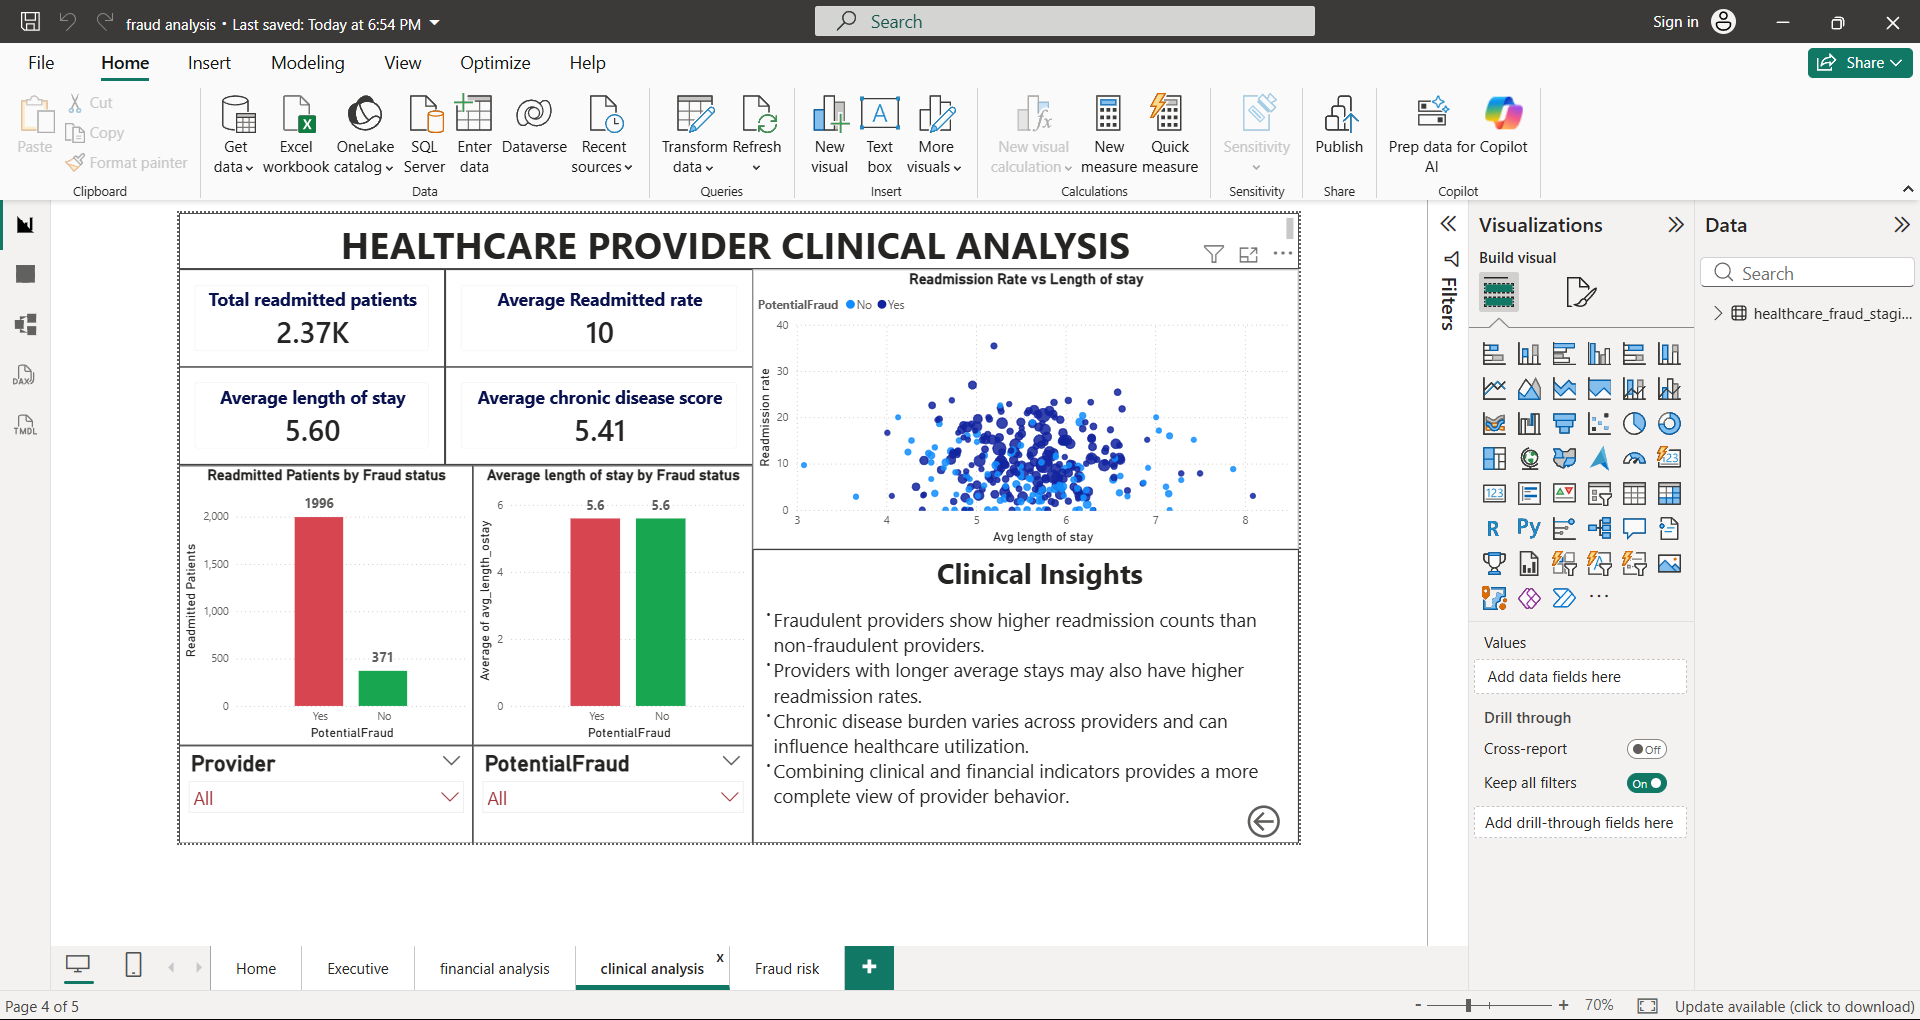

Layout of this report page (visuals, bound fields, positions):
{"tool":"powerbi","page":{"name":"clinical analysis","canvas":[1280,720],"ordinal":3},"visuals":[{"type":"textbox","box":[0,0,1280,64],"z":0},{"type":"cardVisual","fields":{"Data":["healthcare_fraud_staging provider_summary.Total readmitted patients"]},"box":[0,64,304,112],"z":1000},{"type":"cardVisual","fields":{"Data":["healthcare_fraud_staging provider_summary.Avg length of stay"]},"box":[0,176,304,112],"z":2000},{"type":"cardVisual","fields":{"Data":["healthcare_fraud_staging provider_summary.Avg Readmitted rate"]},"box":[304,64,352,112],"z":3000},{"type":"cardVisual","fields":{"Data":["healthcare_fraud_staging provider_summary.Avg chronic disease score"]},"box":[304,176,352,112],"z":4000},{"type":"columnChart","title":"Readmitted Patients by Fraud status","fields":{"Category":["healthcare_fraud_staging provider_summary.PotentialFraud"],"Y":["Sum(healthcare_fraud_staging provider_summary.readmitted)"]},"box":[0,288,336,320],"z":5000},{"type":"columnChart","title":"Average length of stay by Fraud status","fields":{"Category":["healthcare_fraud_staging provider_summary.PotentialFraud"],"Y":["Avg(healthcare_fraud_staging provider_summary.avg_length_ostay)"]},"box":[336,288,320,320],"z":6000},{"type":"scatterChart","title":"Readmission Rate vs Length of stay","fields":{"X":["healthcare_fraud_staging provider_summary.avg_length_ostay"],"Y":["healthcare_fraud_staging provider_summary.readm_rate"],"Series":["healthcare_fraud_staging provider_summary.PotentialFraud"],"Size":["Sum(healthcare_fraud_staging provider_summary.total_patients)"]},"box":[656,64,624,320],"z":7000},{"type":"slicer","fields":{"Values":["healthcare_fraud_staging provider_summary.provider"]},"box":[0,608,336,112],"z":8000},{"type":"slicer","fields":{"Values":["healthcare_fraud_staging provider_summary.PotentialFraud"]},"box":[336,608,320,112],"z":9000},{"type":"textbox","box":[656,384,624,336],"z":10000},{"type":"actionButton","box":[1216,672,64,48],"z":11000}]}

Visuals, with their boxes on the page's 1280x720 design canvas (x1, y1, x2, y2). These are canvas units, not pixel positions in the 1920x1020 screenshot, which may show the page scaled, cropped or inside an application window:
textbox: (left=0, top=0, right=1280, bottom=64)
cardVisual - healthcare_fraud_staging provider_summary.Total readmitted patients: (left=0, top=64, right=304, bottom=176)
cardVisual - healthcare_fraud_staging provider_summary.Avg length of stay: (left=0, top=176, right=304, bottom=288)
cardVisual - healthcare_fraud_staging provider_summary.Avg Readmitted rate: (left=304, top=64, right=656, bottom=176)
cardVisual - healthcare_fraud_staging provider_summary.Avg chronic disease score: (left=304, top=176, right=656, bottom=288)
"Readmitted Patients by Fraud status" columnChart: (left=0, top=288, right=336, bottom=608)
"Average length of stay by Fraud status" columnChart: (left=336, top=288, right=656, bottom=608)
"Readmission Rate vs Length of stay" scatterChart: (left=656, top=64, right=1280, bottom=384)
slicer - healthcare_fraud_staging provider_summary.provider: (left=0, top=608, right=336, bottom=720)
slicer - healthcare_fraud_staging provider_summary.PotentialFraud: (left=336, top=608, right=656, bottom=720)
textbox: (left=656, top=384, right=1280, bottom=720)
actionButton: (left=1216, top=672, right=1280, bottom=720)
